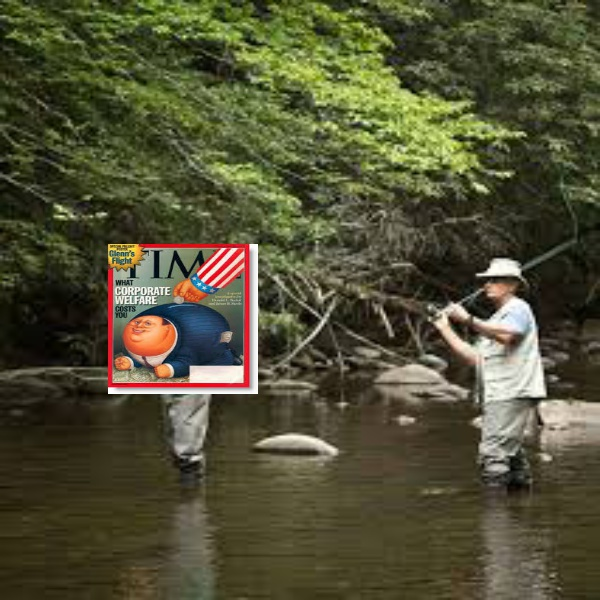time_cover: (94, 225, 276, 402)
